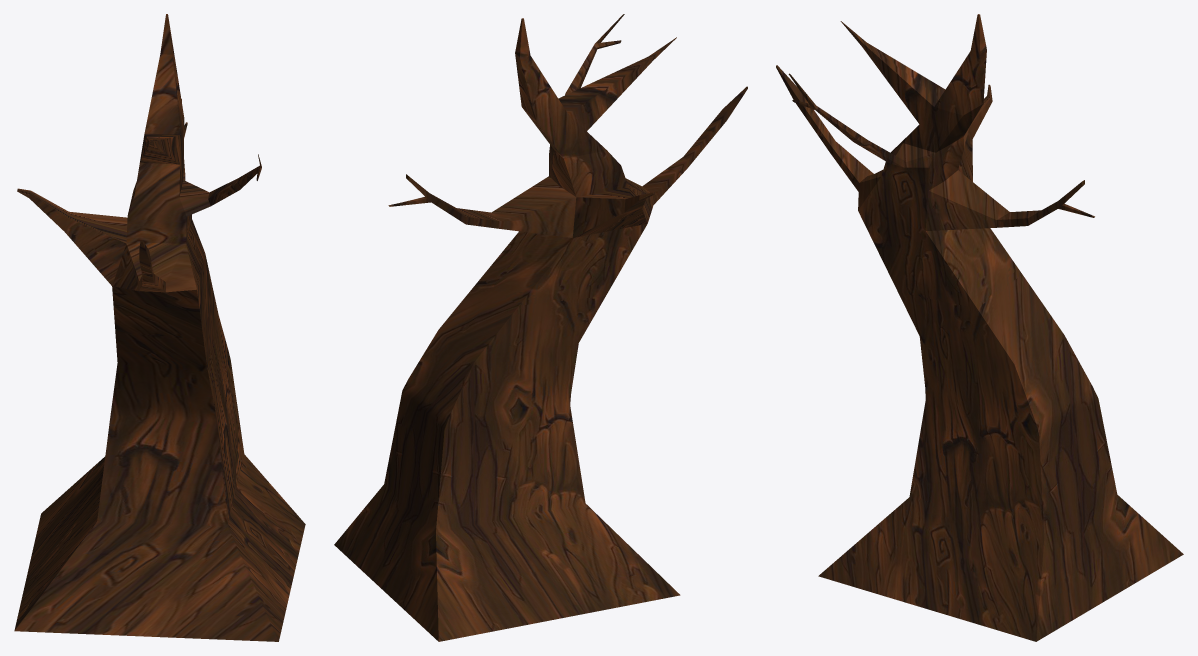
File: TREE.fbx
3 views of the same model, side by side, from view 1: azimuth 30°, elevation 25°; view 2: azimuth 150°, elevation 25°; view 3: azimuth 270°, elevation 25° (orthographic). The views are drawn at different scales.
Visible parts, largest first — view 1: Tree; view 2: Tree; view 3: Tree.
Part boxes in pixels (x1,y1,x2,y2): Tree: (14,14,305,641); Tree: (334,14,747,641); Tree: (776,14,1183,641).
Bounding box in the file's own units: 2.7 × 4.51 × 3.04.
Materials: 1 (1 with a texture image).
